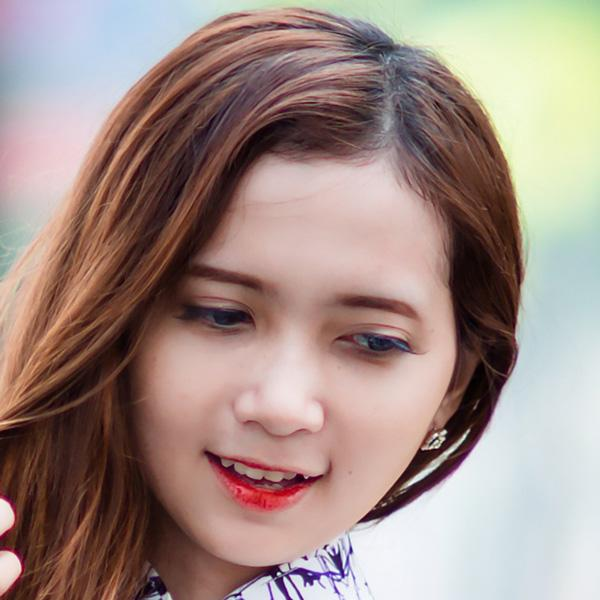Eyes: (323, 313, 422, 374), (171, 285, 262, 342)
